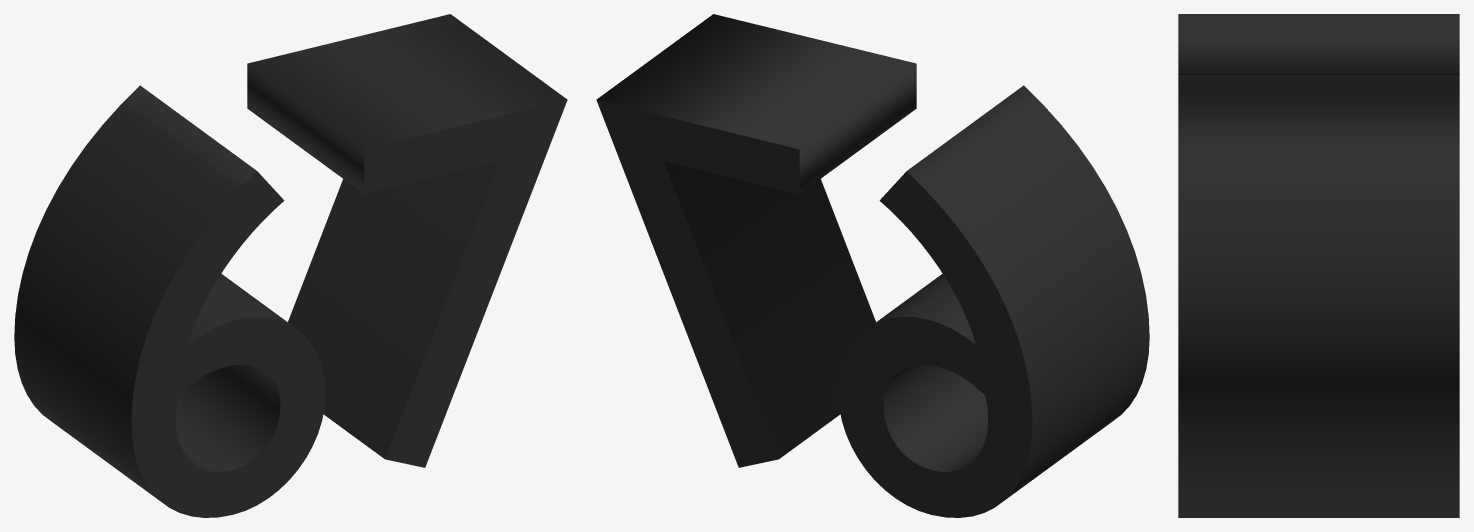
3 renders of one model, left to right at view 1: azimuth 30°, elevation 25°; view 2: azimuth 150°, elevation 25°; view 3: azimuth 270°, elevation 25°, orthographic. The views are drawn at different scales.
Parts seen in each view (by area): view 1: Text; view 2: Text; view 3: Text.
Boxes of the visible parts, x1,y1,x2,y2 form: Text: (14,14,567,517); Text: (596,14,1149,517); Text: (1178,14,1459,517).
Size of the model in its own units: 0.946 by 0.7 by 0.44.
1 material, 1 textured.
